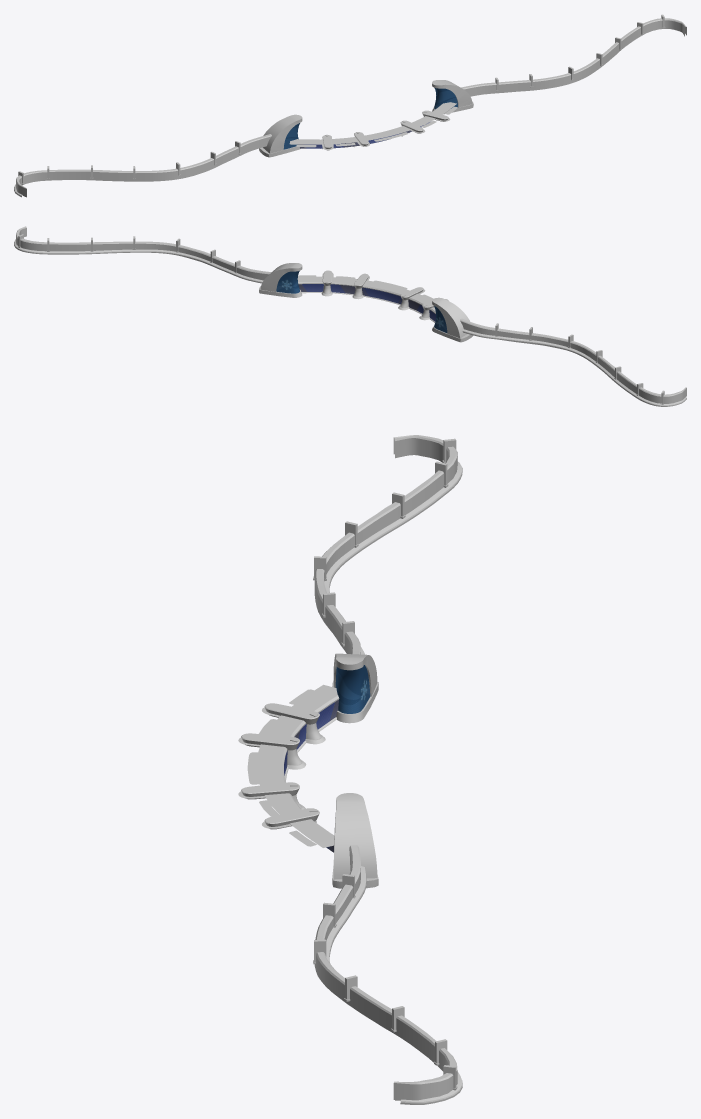
The model's file is pref_sm_beach_winter_techstadium06_bottom_lv3.fbx.
3 views of the same model, one above another, from view 1: azimuth 30°, elevation 25°; view 2: azimuth 150°, elevation 25°; view 3: azimuth 270°, elevation 25° (orthographic). The views are drawn at different scales.
Parts seen in each view (by area): view 1: sm_beach_winter_techstadium06_bottom_a_lv3, sm_beach_winter_techstadium06_bottom_c_lv3, sm_beach_winter_techstadium06_bottom_b_lv3; view 2: sm_beach_winter_techstadium06_bottom_a_lv3, sm_beach_winter_techstadium06_bottom_b_lv3, sm_beach_winter_techstadium06_bottom_c_lv3; view 3: sm_beach_winter_techstadium06_bottom_a_lv3, sm_beach_winter_techstadium06_bottom_b_lv3, sm_beach_winter_techstadium06_bottom_c_lv3.
Part boxes in pixels (x1,y1,x2,y2): sm_beach_winter_techstadium06_bottom_a_lv3: [259, 80, 473, 157]; sm_beach_winter_techstadium06_bottom_c_lv3: [14, 134, 271, 197]; sm_beach_winter_techstadium06_bottom_b_lv3: [461, 14, 686, 96]; sm_beach_winter_techstadium06_bottom_a_lv3: [259, 263, 473, 342]; sm_beach_winter_techstadium06_bottom_b_lv3: [14, 226, 271, 283]; sm_beach_winter_techstadium06_bottom_c_lv3: [460, 318, 686, 406]; sm_beach_winter_techstadium06_bottom_a_lv3: [238, 653, 378, 888]; sm_beach_winter_techstadium06_bottom_b_lv3: [313, 845, 462, 1104]; sm_beach_winter_techstadium06_bottom_c_lv3: [313, 435, 462, 654].
Size of the model in its own units: 125 by 5.29 by 18.23.
Materials: 2 (1 with a texture image).
